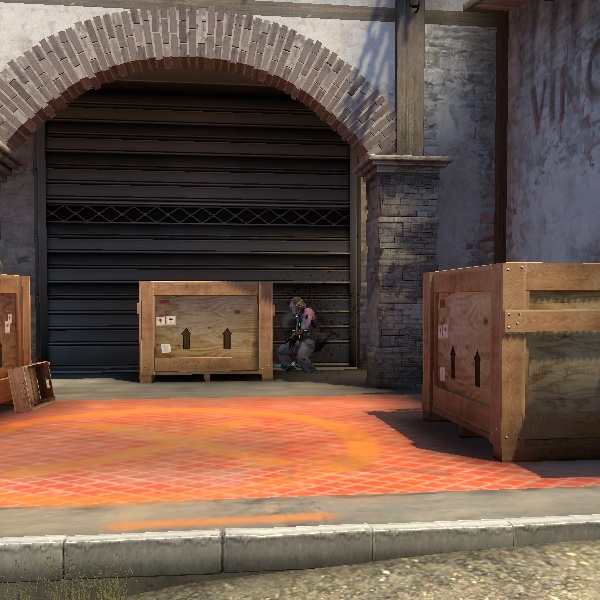t_body: (273, 290, 320, 376)
